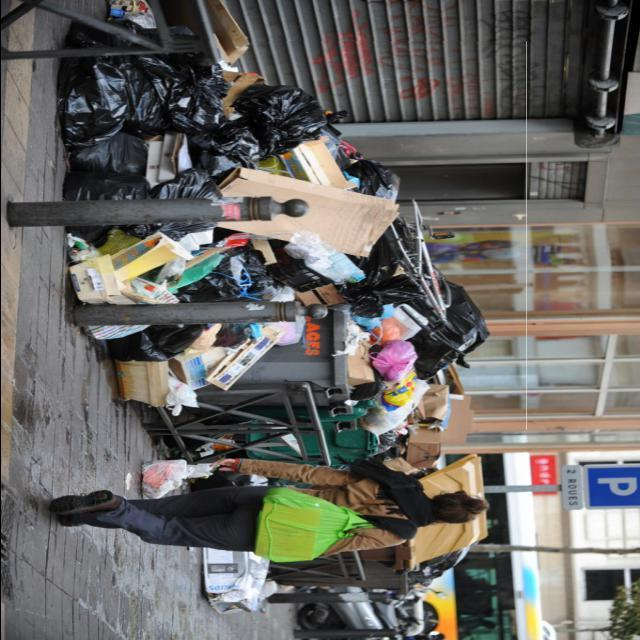Trashbag: (128, 49, 230, 152), (55, 20, 134, 146), (428, 274, 500, 378), (235, 79, 329, 143), (64, 136, 150, 180)
